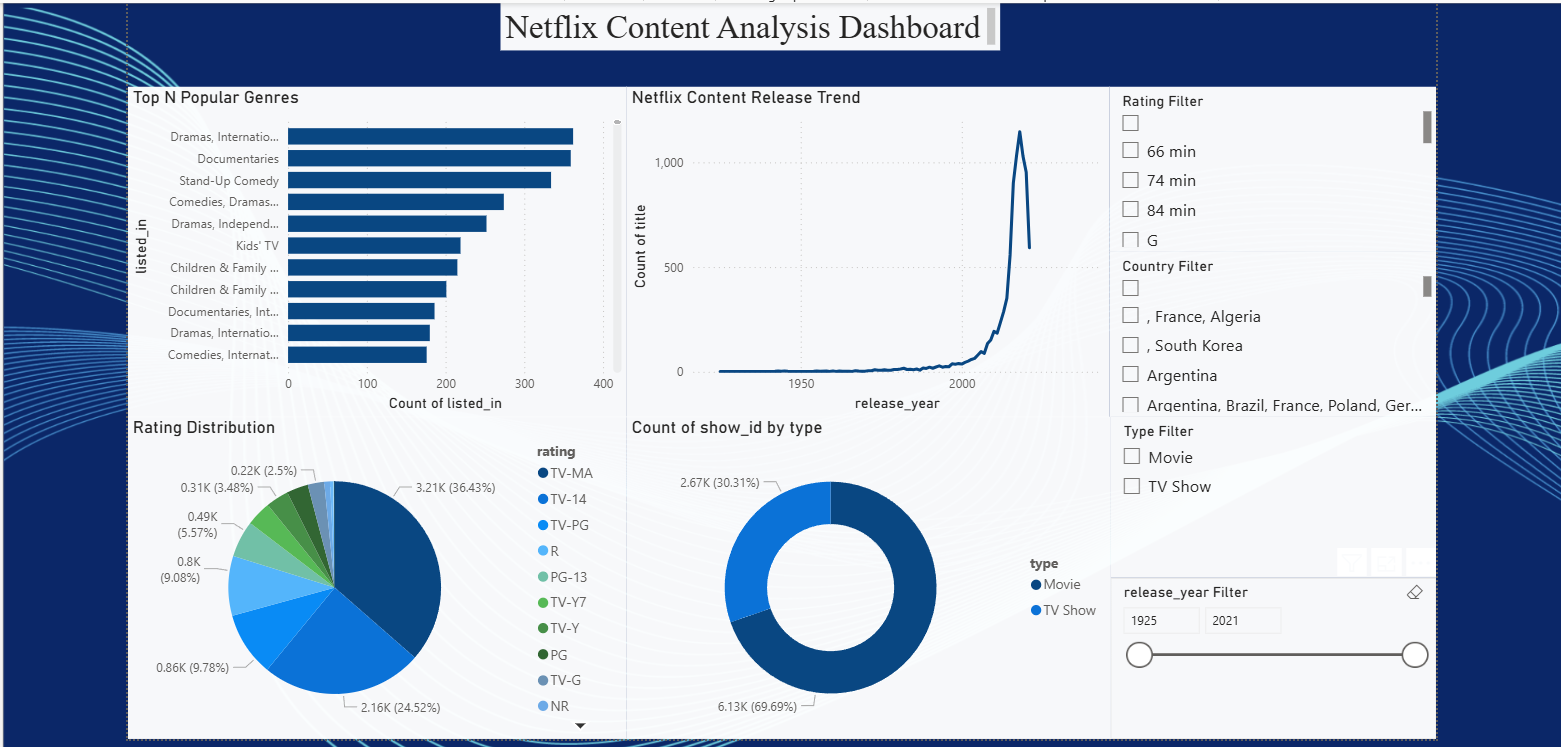

What the dashboard file says about the page in this screenshot:
{"tool":"powerbi","page":{"name":"Page 1","canvas":[1280,720],"ordinal":0},"visuals":[{"type":"clusteredBarChart","title":"Top N Popular Genres","fields":{"Category":["cleaned_netflix_data.listed_in"],"Y":["CountNonNull(cleaned_netflix_data.listed_in)"]},"box":[0,81.9,487.9,322.8],"z":0},{"type":"lineChart","title":"Netflix Content Release Trend","fields":{"Category":["cleaned_netflix_data.release_year"],"Y":["CountNonNull(cleaned_netflix_data.title)"]},"box":[487.9,81.9,472,322.8],"z":1000},{"type":"pieChart","title":"Rating Distribution","fields":{"Category":["cleaned_netflix_data.rating"],"Y":["CountNonNull(cleaned_netflix_data.rating)"]},"box":[0,404.8,487.9,315.5],"z":2000},{"type":"textbox","box":[364.4,0,489.1,46.5],"z":3000},{"type":"slicer","fields":{"Values":["cleaned_netflix_data.country"]},"box":[959.9,243.3,320.4,161.4],"z":4000},{"type":"slicer","fields":{"Values":["cleaned_netflix_data.rating"]},"box":[959.9,81.9,320.4,161.4],"z":5000},{"type":"slicer","fields":{"Values":["cleaned_netflix_data.release_year"]},"box":[961.1,562.5,319.2,157.7],"z":6000},{"type":"slicer","fields":{"Values":["cleaned_netflix_data.type"]},"box":[961.1,404.8,319.2,157.7],"z":7000},{"type":"donutChart","fields":{"Y":["CountNonNull(cleaned_netflix_data.show_id)"],"Category":["cleaned_netflix_data.type"]},"box":[487.9,404.8,473.2,315.5],"z":8000}]}

Visuals, with their boxes on the page's 1280x720 design canvas (x1, y1, x2, y2). These are canvas units, not pixel positions in the 1561x747 screenshot, which may show the page scaled, cropped or inside an application window:
"Top N Popular Genres" clusteredBarChart: <region>0, 82, 488, 405</region>
"Netflix Content Release Trend" lineChart: <region>488, 82, 960, 405</region>
"Rating Distribution" pieChart: <region>0, 405, 488, 720</region>
textbox: <region>364, 0, 854, 46</region>
slicer - cleaned_netflix_data.country: <region>960, 243, 1280, 405</region>
slicer - cleaned_netflix_data.rating: <region>960, 82, 1280, 243</region>
slicer - cleaned_netflix_data.release_year: <region>961, 562, 1280, 720</region>
slicer - cleaned_netflix_data.type: <region>961, 405, 1280, 562</region>
donutChart - CountNonNull(cleaned_netflix_data.show_id) x cleaned_netflix_data.type: <region>488, 405, 961, 720</region>
